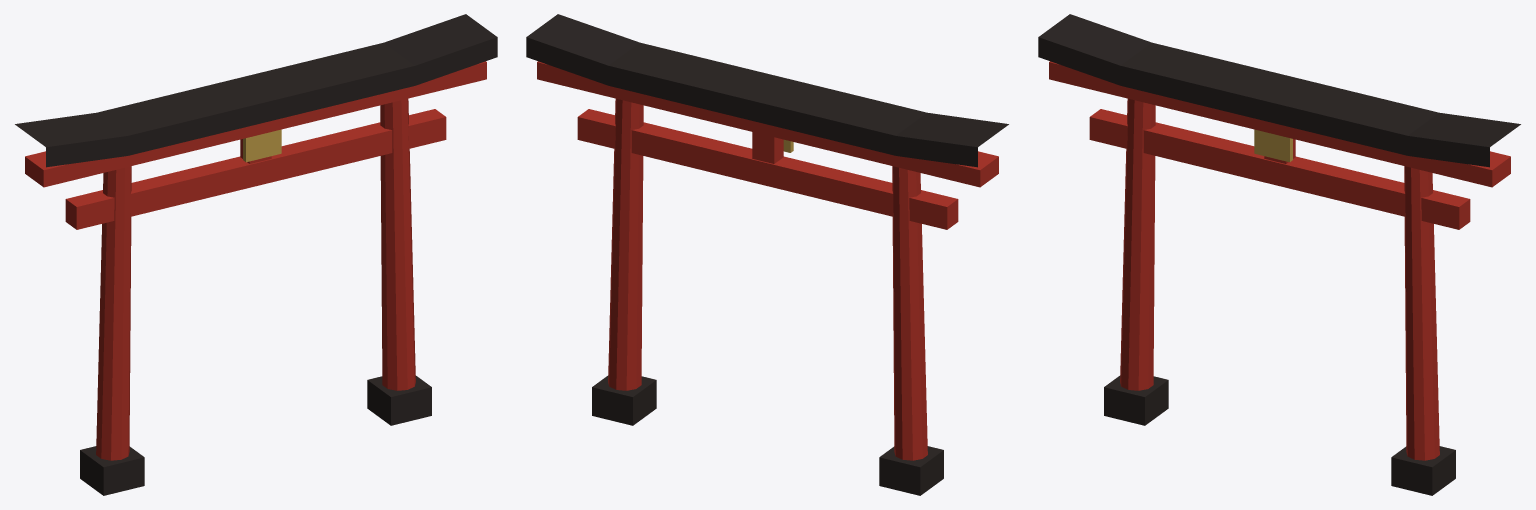
Rendered from jap-torii.gltf.
3 renders of one model, left to right at view 1: azimuth 30°, elevation 25°; view 2: azimuth 150°, elevation 25°; view 3: azimuth 330°, elevation 25°, orthographic.
Parts seen in each view (by area): view 1: jap-torii; view 2: jap-torii; view 3: jap-torii.
Boxes of the visible parts, <box> form: jap-torii: <box>15,14,497,495</box>; jap-torii: <box>526,14,1008,495</box>; jap-torii: <box>1038,14,1520,495</box>.
Size of the model in its own units: 3.3 by 2.56 by 0.4.
